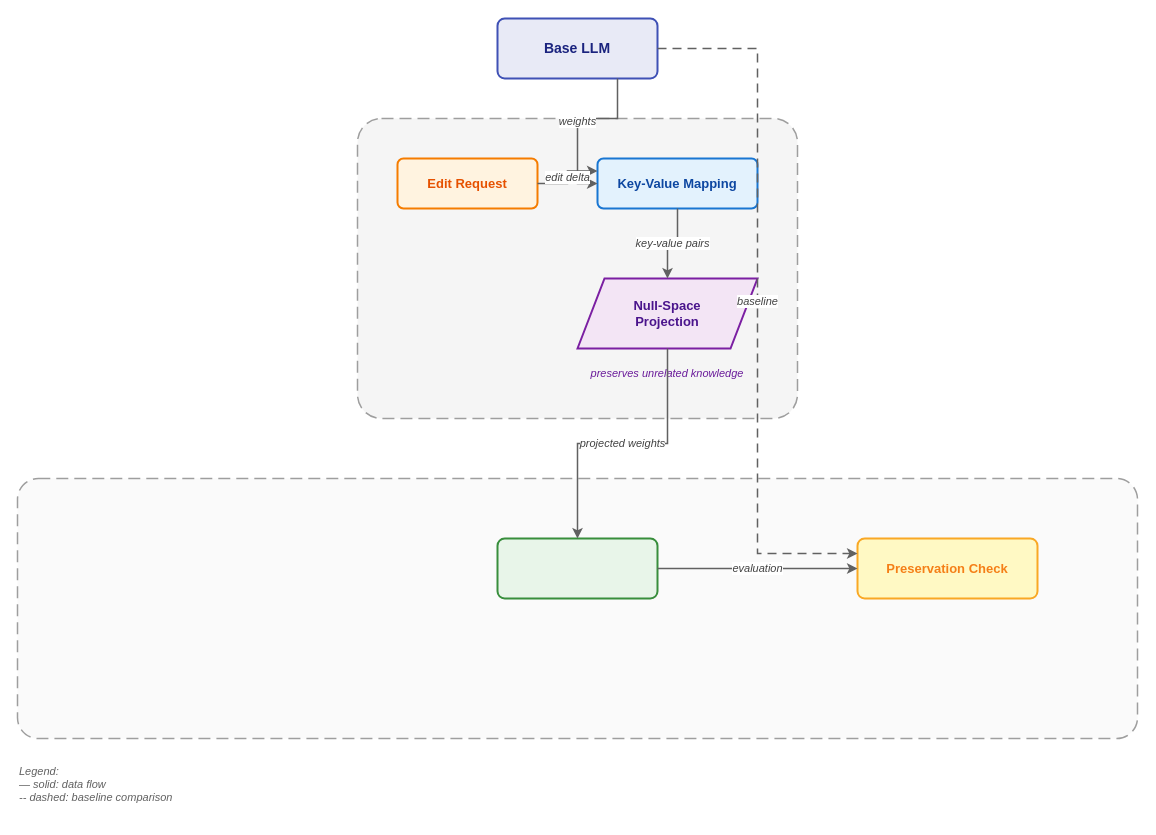
Some shapes in this 1156 by 835 pixel diagram are drawn without their labels. The box of each missing label's shape, as (x1, y1, x2, y2) in pixels:
Edit Pipeline: (356, 117, 798, 419)
Edited LLM: (496, 537, 658, 599)
Verification: (16, 477, 1138, 739)
